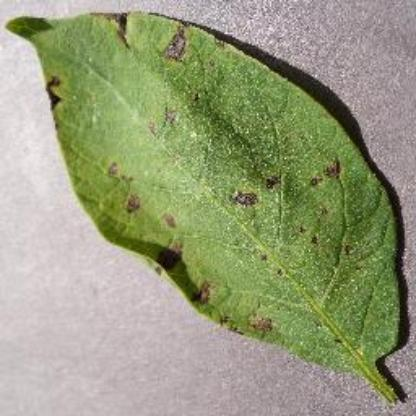Early-Blight: (3, 13, 415, 403)
